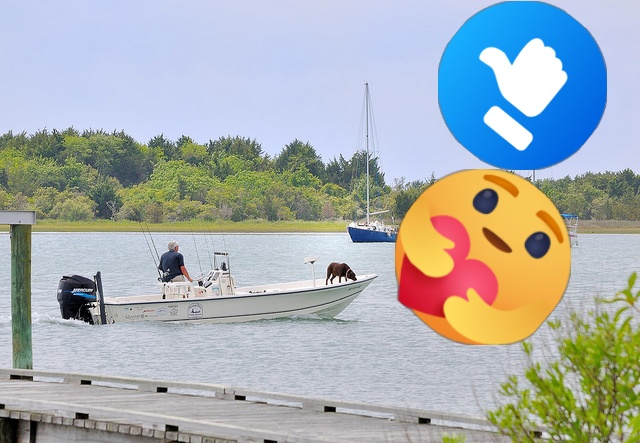care: (395, 169, 571, 345)
like: (438, 1, 607, 170)
